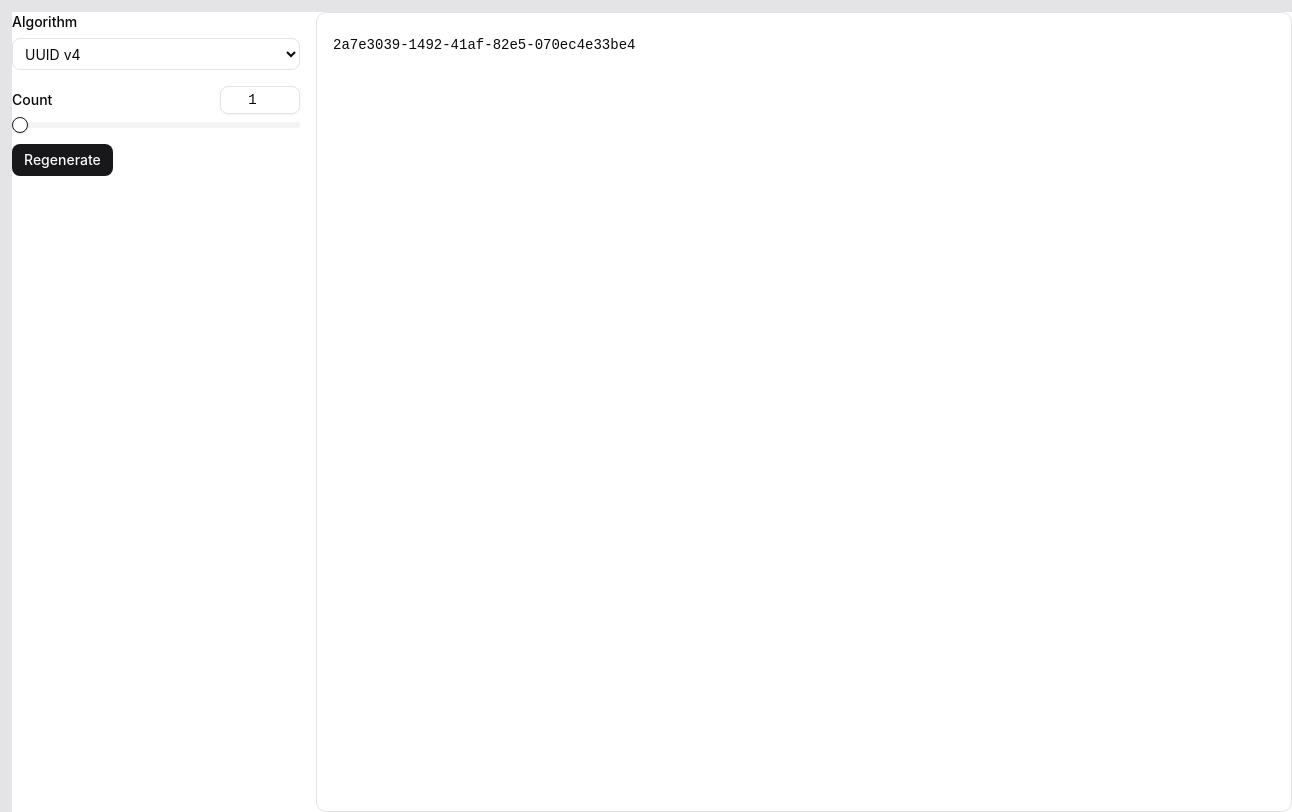
v5 algorithm generates a UUID v5
Select "UUID v5" in the dropdown. click: (156, 54)
box: left=12, top=38, right=300, bottom=70
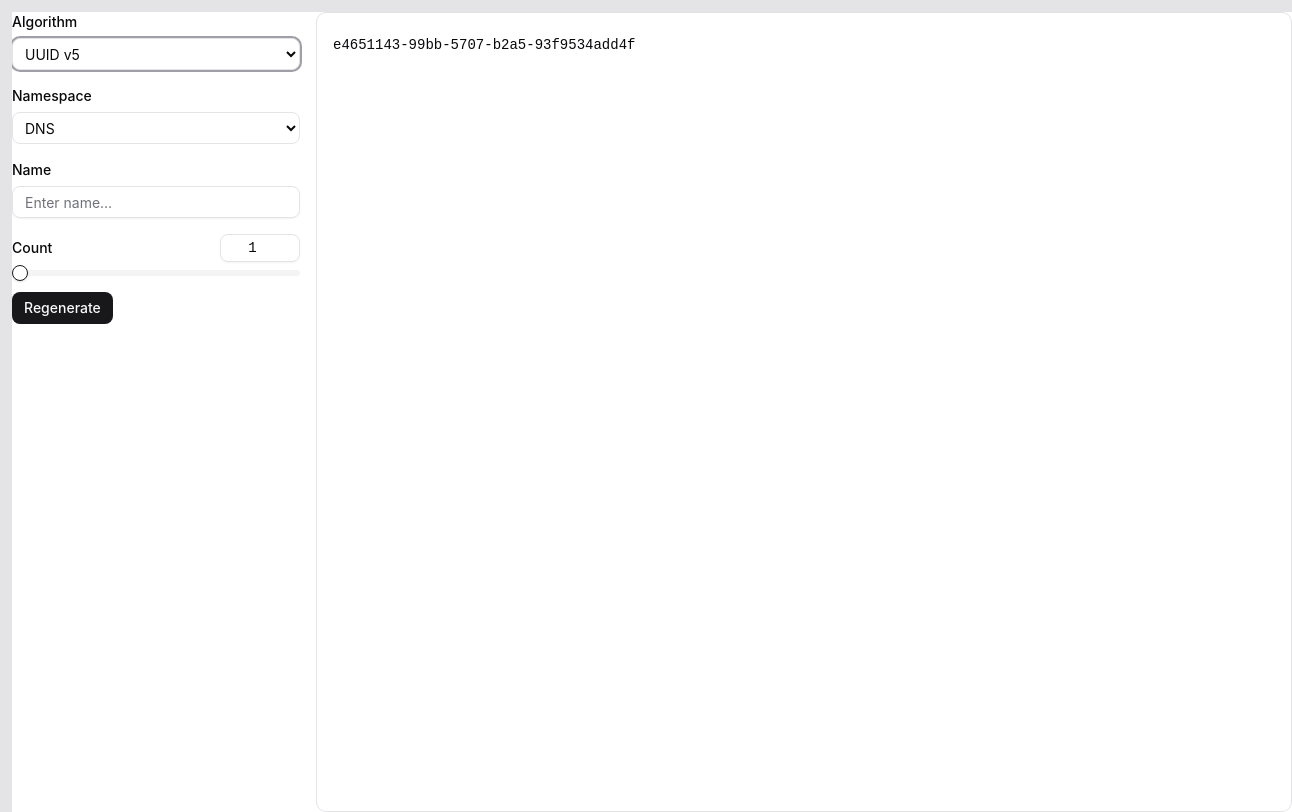
Result: the text "Namespace" is shown at left=12, top=87, right=92, bottom=104
Result: the text "e4651143-99bb-5707-b2a5-93f9534add4f" is shown at left=333, top=37, right=636, bottom=53
